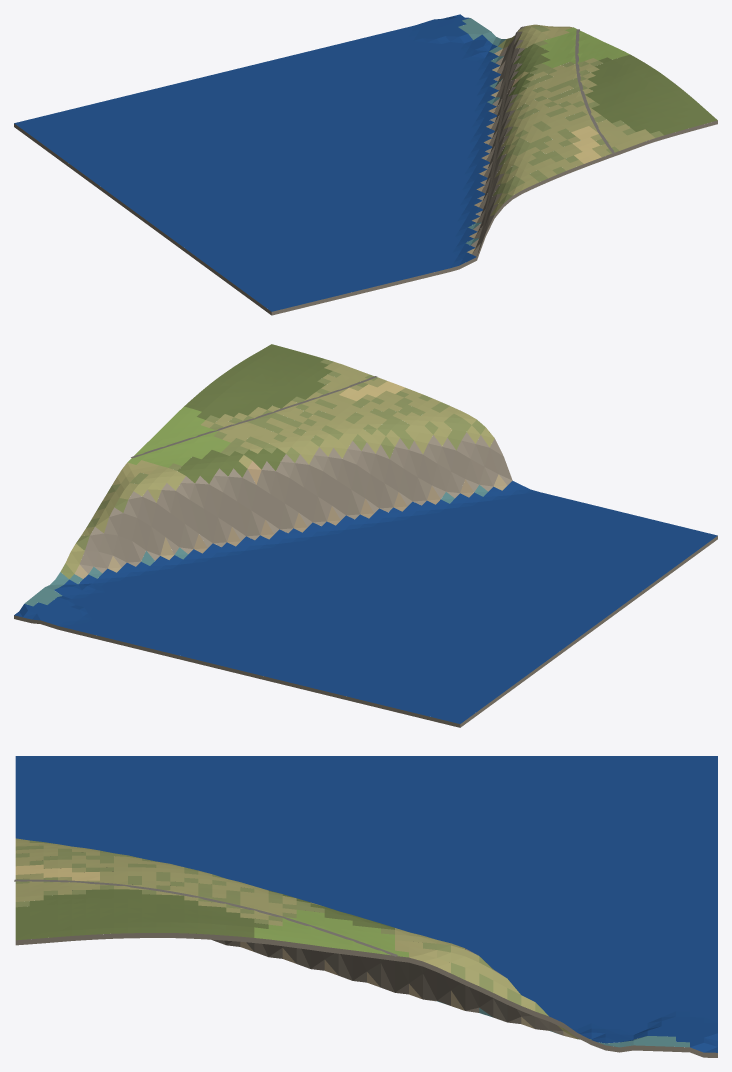
Rendered from parca_-1_-7-uzak.glb.
3 views of the same model, one above another, from view 1: azimuth 30°, elevation 25°; view 2: azimuth 150°, elevation 25°; view 3: azimuth 270°, elevation 25° (orthographic). The views are drawn at different scales.
Parts seen in each view (by area): view 1: parca_-1_-7_arazi_uzak, parca_-1_-7_yollar_uzak; view 2: parca_-1_-7_arazi_uzak; view 3: parca_-1_-7_arazi_uzak, parca_-1_-7_yollar_uzak.
Part boxes in pixels (<box>): parca_-1_-7_arazi_uzak: <box>14,14,717,315</box>; parca_-1_-7_yollar_uzak: <box>575,29,615,153</box>; parca_-1_-7_arazi_uzak: <box>14,344,717,727</box>; parca_-1_-7_arazi_uzak: <box>15,756,717,1057</box>; parca_-1_-7_yollar_uzak: <box>14,879,397,956</box>.
Bounding box in the file's own units: 1003 × 196 × 1002.
